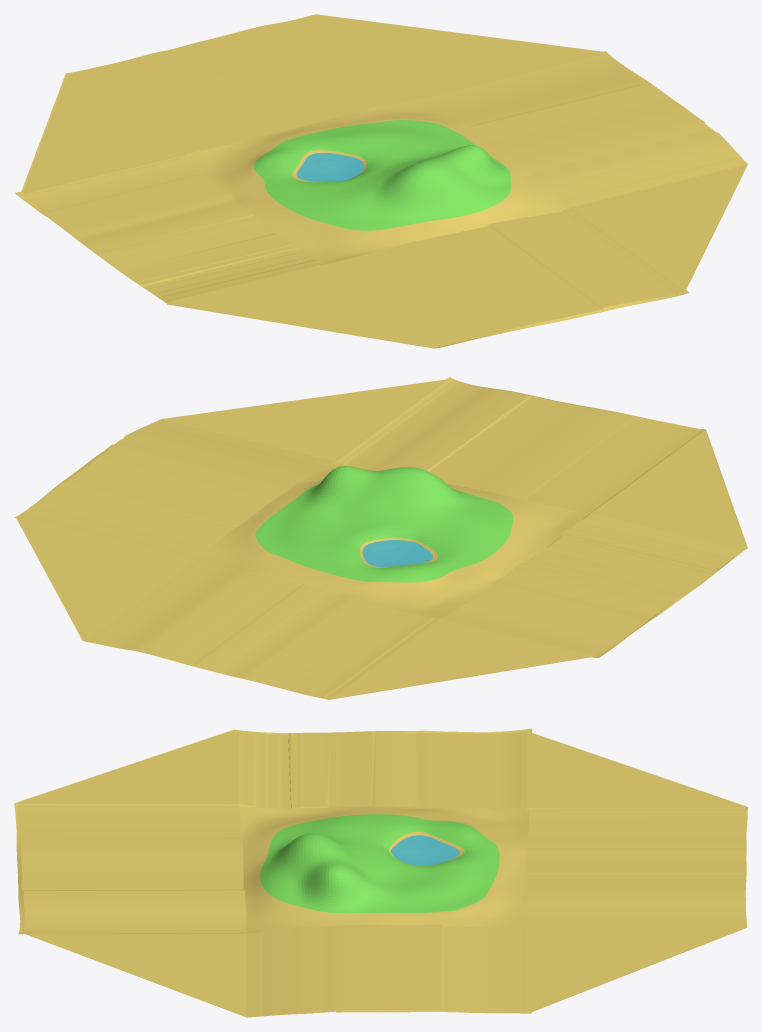
The model's file is greenary-set.glb.
3 views of the same model, one above another, from view 1: azimuth 30°, elevation 25°; view 2: azimuth 150°, elevation 25°; view 3: azimuth 270°, elevation 25° (orthographic). The views are drawn at different scales.
Parts seen in each view (by area): view 1: Terrain, Lake; view 2: Terrain, Lake; view 3: Terrain, Lake.
Boxes of the visible parts, box(x1,y1,x2,y2) form: Terrain: box(14, 14, 747, 348); Lake: box(296, 153, 363, 181); Terrain: box(14, 377, 747, 699); Lake: box(362, 540, 432, 566); Terrain: box(14, 728, 747, 1017); Lake: box(391, 835, 459, 865).
Size of what is drawn, in the model's own units: 245 by 17.76 by 269.
2 materials, 1 textured.
